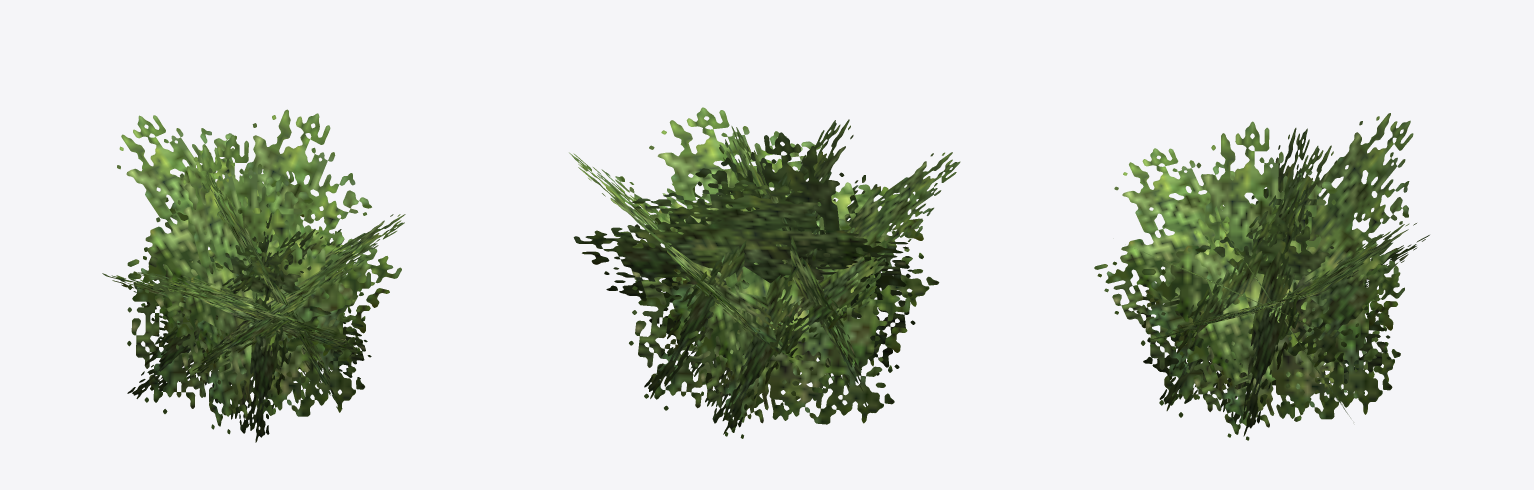
File: bush_la_7.glb
3 renders of one model, left to right at view 1: azimuth 30°, elevation 25°; view 2: azimuth 150°, elevation 25°; view 3: azimuth 270°, elevation 25°, orthographic. The views are drawn at different scales.
Visible parts, largest first — view 1: bush_la_7; view 2: bush_la_7; view 3: bush_la_7.
Part boxes in pixels (box(x1,y1,x2,y2)): bush_la_7: box(102, 109, 405, 442); bush_la_7: box(569, 107, 960, 438); bush_la_7: box(1094, 113, 1429, 440).
Bounding box in the file's own units: 9.5 × 6.55 × 9.29.
1 material, 1 textured.
